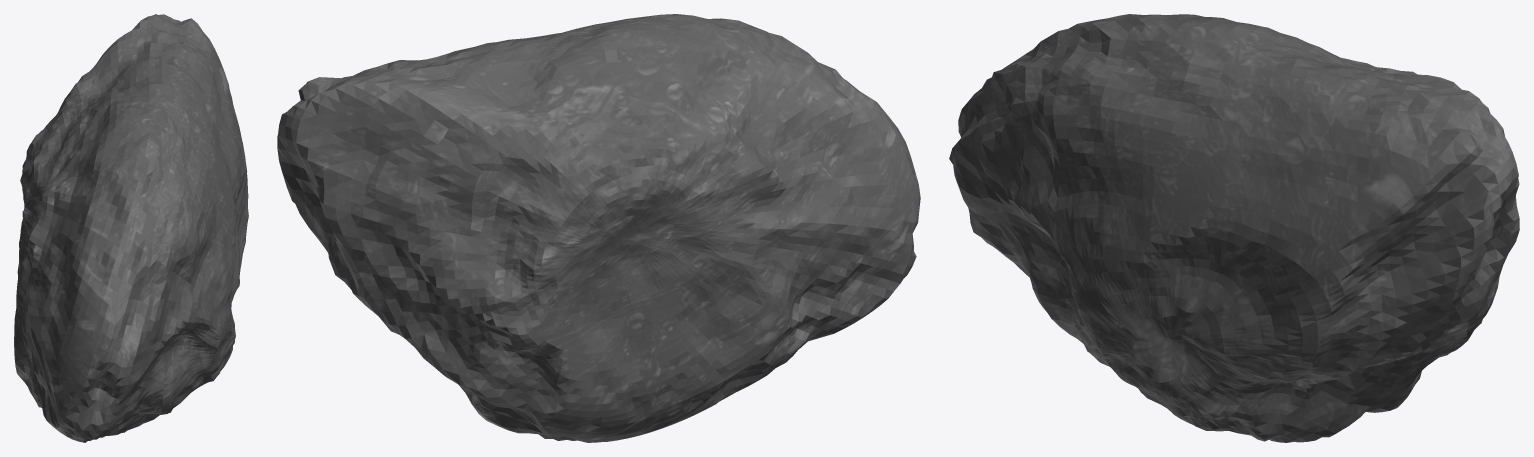
Rendered from asteroid1.obj.
3 views of the same model, side by side, from view 1: azimuth 30°, elevation 25°; view 2: azimuth 150°, elevation 25°; view 3: azimuth 270°, elevation 25° (orthographic). The views are drawn at different scales.
Parts seen in each view (by area): view 1: Null3_Null2_Null1_Null_Landscape_37; view 2: Null3_Null2_Null1_Null_Landscape_37; view 3: Null3_Null2_Null1_Null_Landscape_37.
Part boxes in pixels (x1,y1,x2,y2): Null3_Null2_Null1_Null_Landscape_37: (14,14,248,442); Null3_Null2_Null1_Null_Landscape_37: (277,14,920,442); Null3_Null2_Null1_Null_Landscape_37: (949,14,1519,442).
Bounding box in the file's own units: 6.02 × 5.4 × 7.01.
Materials: 1 (1 with a texture image).
